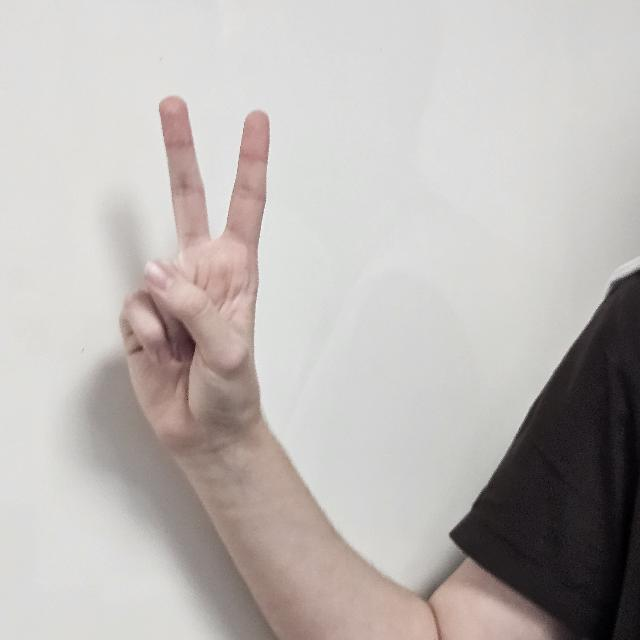Triangulo: (115, 89, 291, 474)
